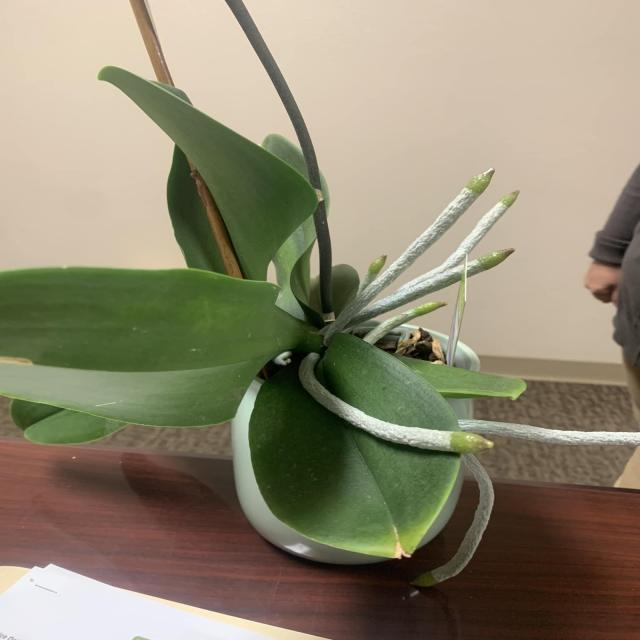leaf: (1, 266, 308, 426), (99, 68, 318, 277), (243, 360, 459, 555), (402, 359, 526, 400)
plant: (2, 32, 557, 624)
pot: (227, 322, 497, 563)
root: (299, 353, 493, 586), (328, 168, 493, 334), (348, 191, 518, 326), (460, 421, 639, 444), (364, 303, 446, 344), (470, 249, 514, 276)
